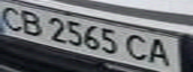2: (42, 15, 69, 44)
5: (100, 26, 124, 56), (63, 19, 84, 48)
6: (81, 24, 103, 52)
A: (145, 37, 178, 69)
B: (15, 8, 48, 37)
C: (124, 32, 151, 63), (0, 2, 27, 33)
